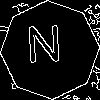N: (25, 25, 63, 73)
